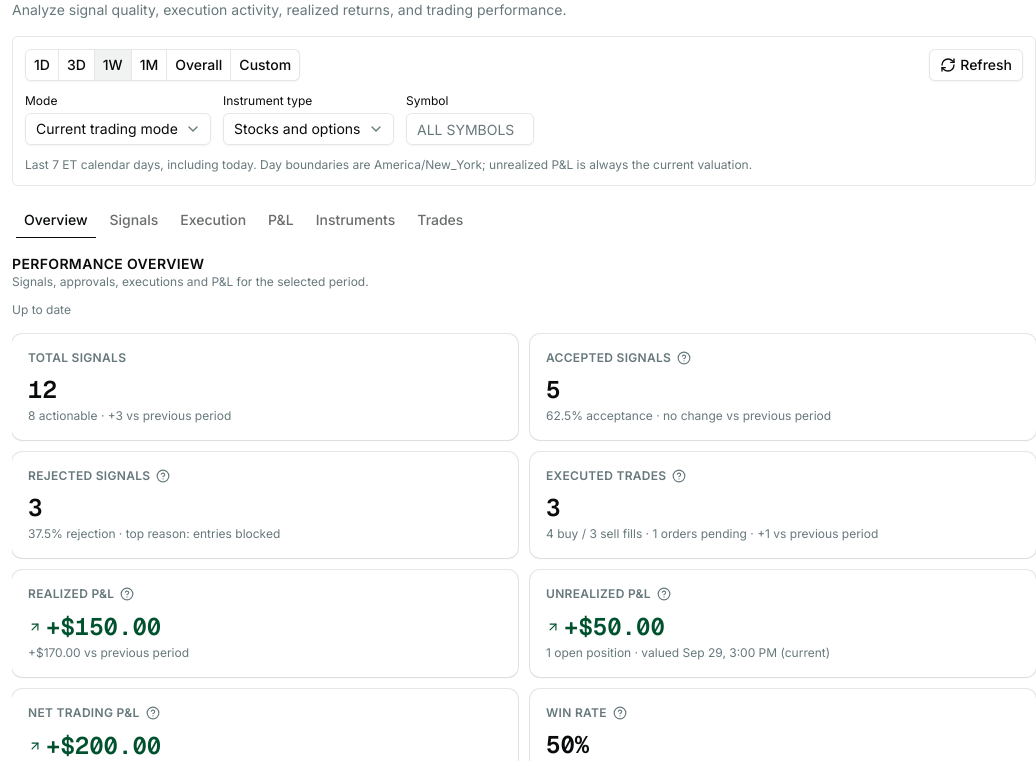
Scenario: Trading report: P&L tab › renders the cumulative series and keeps an inactive day apart from a zero result
Click the tab "P&L": (281, 220) top-left (259, 206), bottom-right (303, 234)
(page scrolled)
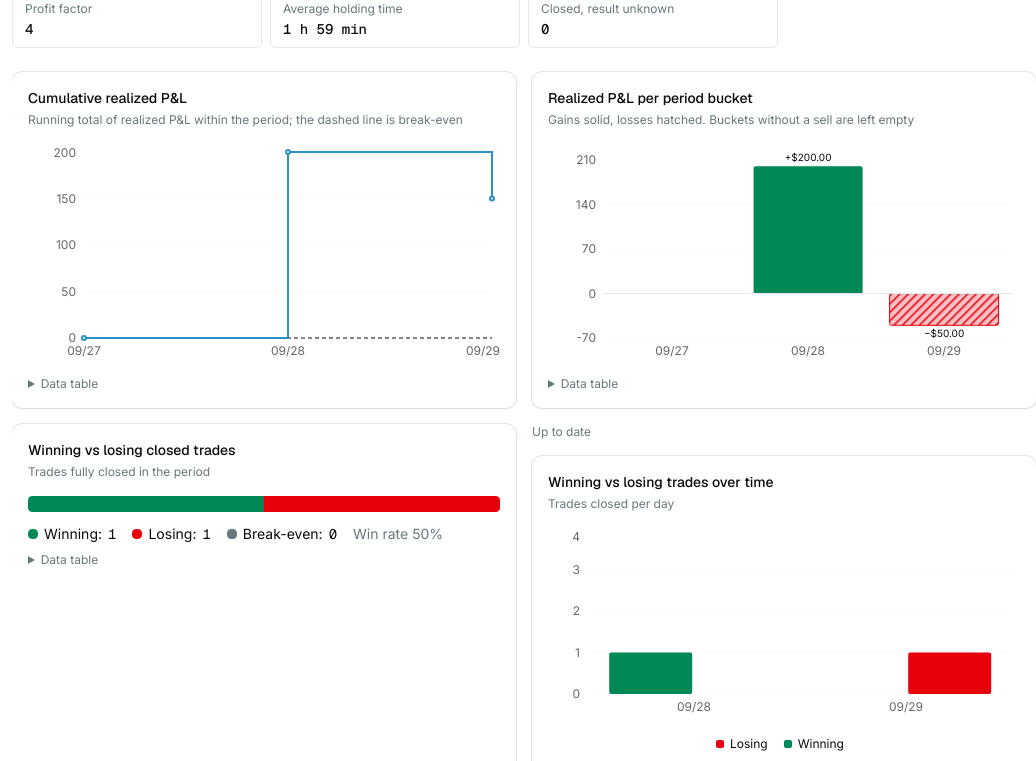
Expected: the text "4" is shown, top-left (25, 20), bottom-right (33, 38)
Now the text "Cumulative realized P&L" is shown, box top-left (28, 89), bottom-right (187, 107)
Now the heading "Data table" below "100" is shown, box top-left (41, 376), bottom-right (98, 391)
